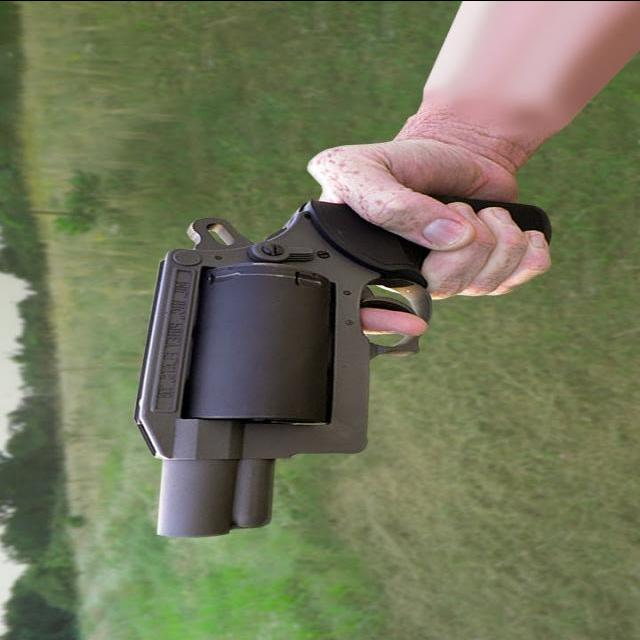pistol: (120, 198, 534, 540)
